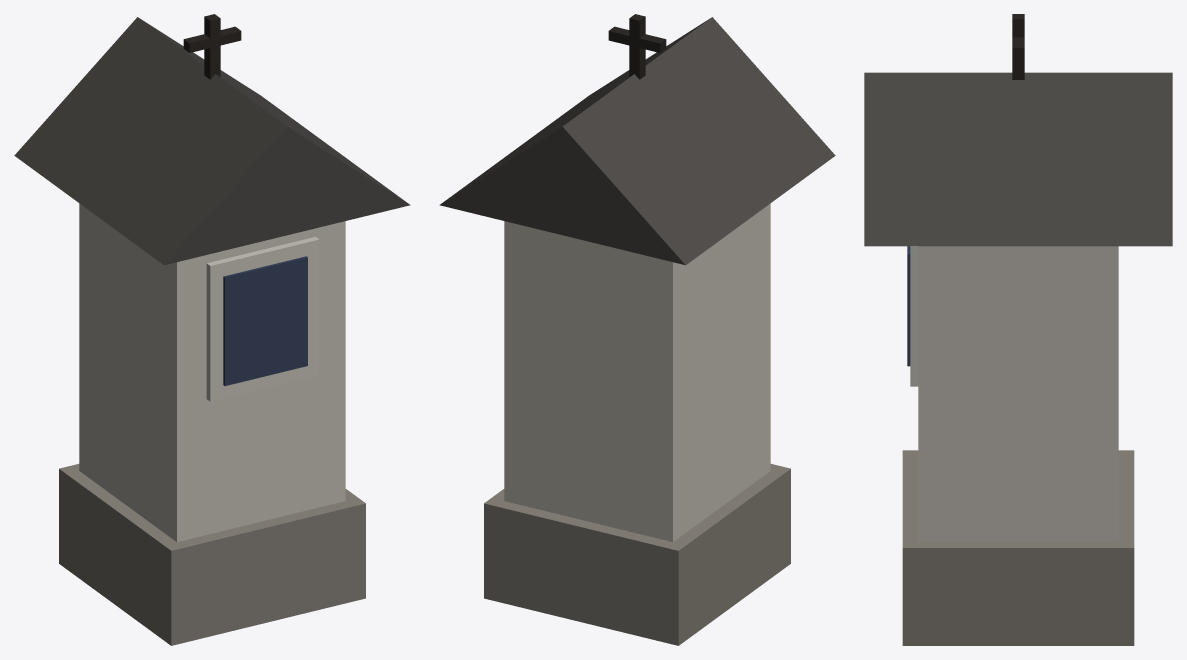
The model's file is wayside_shrine.glb.
3 views of the same model, side by side, from view 1: azimuth 30°, elevation 25°; view 2: azimuth 150°, elevation 25°; view 3: azimuth 270°, elevation 25° (orthographic). The views are drawn at different scales.
Parts seen in each view (by area): view 1: wayside_shrine; view 2: wayside_shrine; view 3: wayside_shrine.
Boxes of the visible parts, x1=… form: wayside_shrine: x1=14, y1=14, x2=410, y2=645; wayside_shrine: x1=439, y1=14, x2=835, y2=645; wayside_shrine: x1=864, y1=14, x2=1172, y2=645.
Size of the model in its own units: 1.9 by 4.15 by 2.
